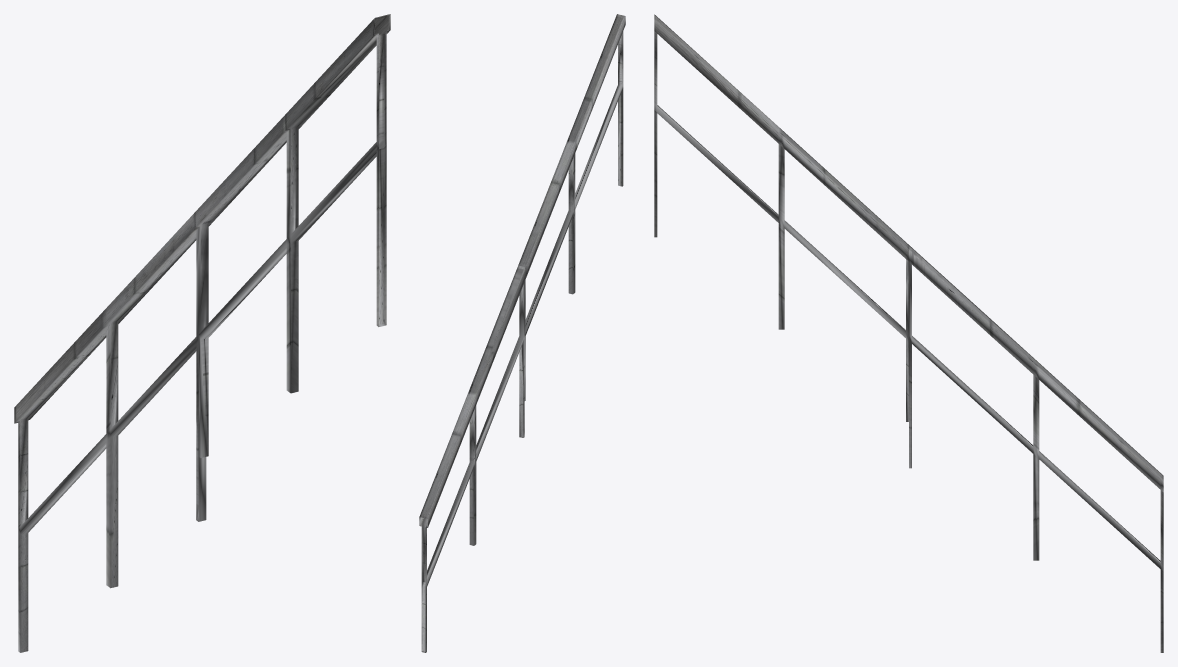
The model's file is HandrailsSlide.fbx.
3 renders of one model, left to right at view 1: azimuth 30°, elevation 25°; view 2: azimuth 150°, elevation 25°; view 3: azimuth 270°, elevation 25°, orthographic. The views are drawn at different scales.
Visible parts, largest first — view 1: Cube.007; view 2: Cube.007; view 3: Cube.007.
Part boxes in pixels (x1=…): Cube.007: x1=14, y1=14, x2=390, y2=652; Cube.007: x1=419, y1=14, x2=625, y2=652; Cube.007: x1=654, y1=14, x2=1163, y2=652.
Size of the model in its own units: 5 by 275 by 200.
